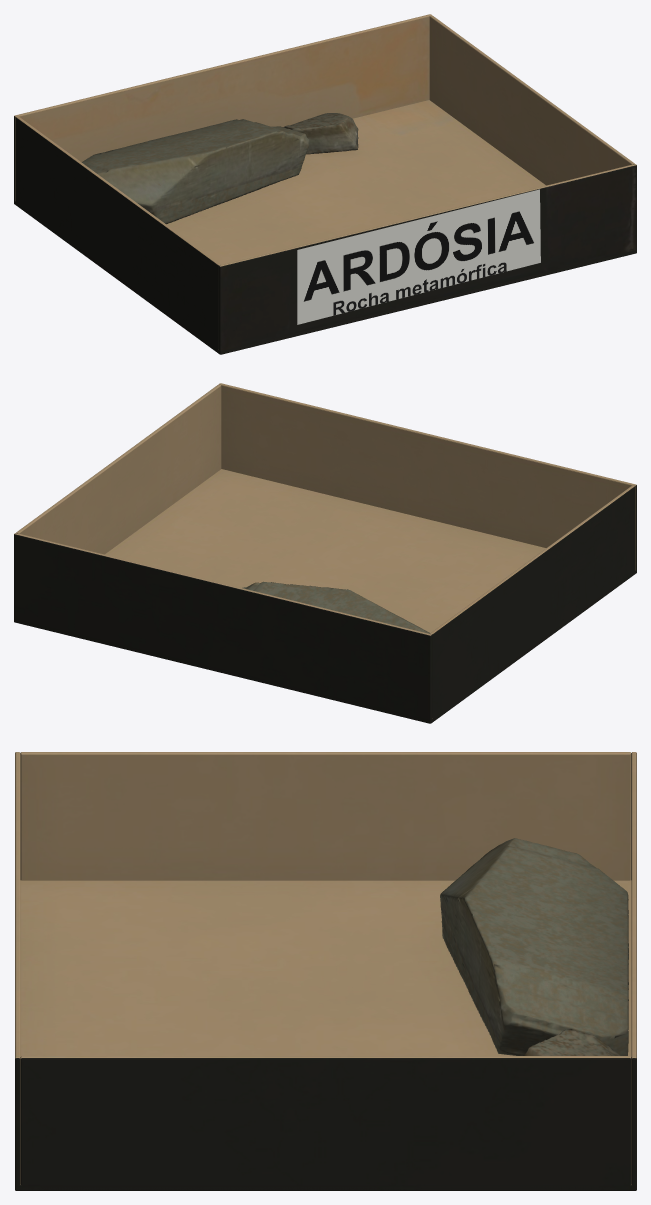
Rendered from rocha_02_20_ardosia.glb.
3 renders of one model, top to bottom at view 1: azimuth 30°, elevation 25°; view 2: azimuth 150°, elevation 25°; view 3: azimuth 270°, elevation 25°, orthographic. The views are drawn at different scales.
Visible parts, largest first — view 1: Bandeja_Base_mo20, Bandeja_Fundo_mo20, Bandeja_Frente_mo20, Etiqueta_mo20, Bandeja_Esquerda_mo20, Bandeja_Direita_mo20, Fragmento_01_mo20, Fragmento_02_mo20; view 2: Bandeja_Base_mo20, Bandeja_Fundo_mo20, Bandeja_Frente_mo20, Bandeja_Esquerda_mo20, Bandeja_Direita_mo20, Fragmento_01_mo20; view 3: Bandeja_Base_mo20, Bandeja_Direita_mo20, Bandeja_Esquerda_mo20, Fragmento_01_mo20, Bandeja_Fundo_mo20, Bandeja_Frente_mo20, Fragmento_02_mo20.
Boxes of the visible parts, bbox=[...] form: Bandeja_Base_mo20: bbox=[14, 100, 636, 354]; Bandeja_Fundo_mo20: bbox=[14, 14, 431, 204]; Bandeja_Frente_mo20: bbox=[218, 164, 636, 354]; Etiqueta_mo20: bbox=[297, 189, 540, 324]; Bandeja_Esquerda_mo20: bbox=[16, 116, 220, 349]; Bandeja_Direita_mo20: bbox=[429, 15, 634, 185]; Fragmento_01_mo20: bbox=[81, 119, 309, 224]; Fragmento_02_mo20: bbox=[284, 113, 358, 154]; Bandeja_Base_mo20: bbox=[14, 469, 635, 723]; Bandeja_Fundo_mo20: bbox=[14, 533, 432, 722]; Bandeja_Frente_mo20: bbox=[219, 383, 636, 573]; Bandeja_Esquerda_mo20: bbox=[430, 485, 634, 718]; Bandeja_Direita_mo20: bbox=[16, 384, 221, 554]; Fragmento_01_mo20: bbox=[242, 581, 429, 633]; Bandeja_Base_mo20: bbox=[15, 880, 636, 1190]; Bandeja_Direita_mo20: bbox=[20, 1056, 631, 1190]; Bandeja_Esquerda_mo20: bbox=[20, 752, 631, 880]; Fragmento_01_mo20: bbox=[440, 838, 628, 1055]; Bandeja_Fundo_mo20: bbox=[631, 752, 636, 1190]; Bandeja_Frente_mo20: bbox=[15, 752, 20, 1190]; Fragmento_02_mo20: bbox=[524, 1029, 620, 1055].
Size of the model in its own units: 0.1916 by 0.0389 by 0.1646.
3 materials, 3 textured.
